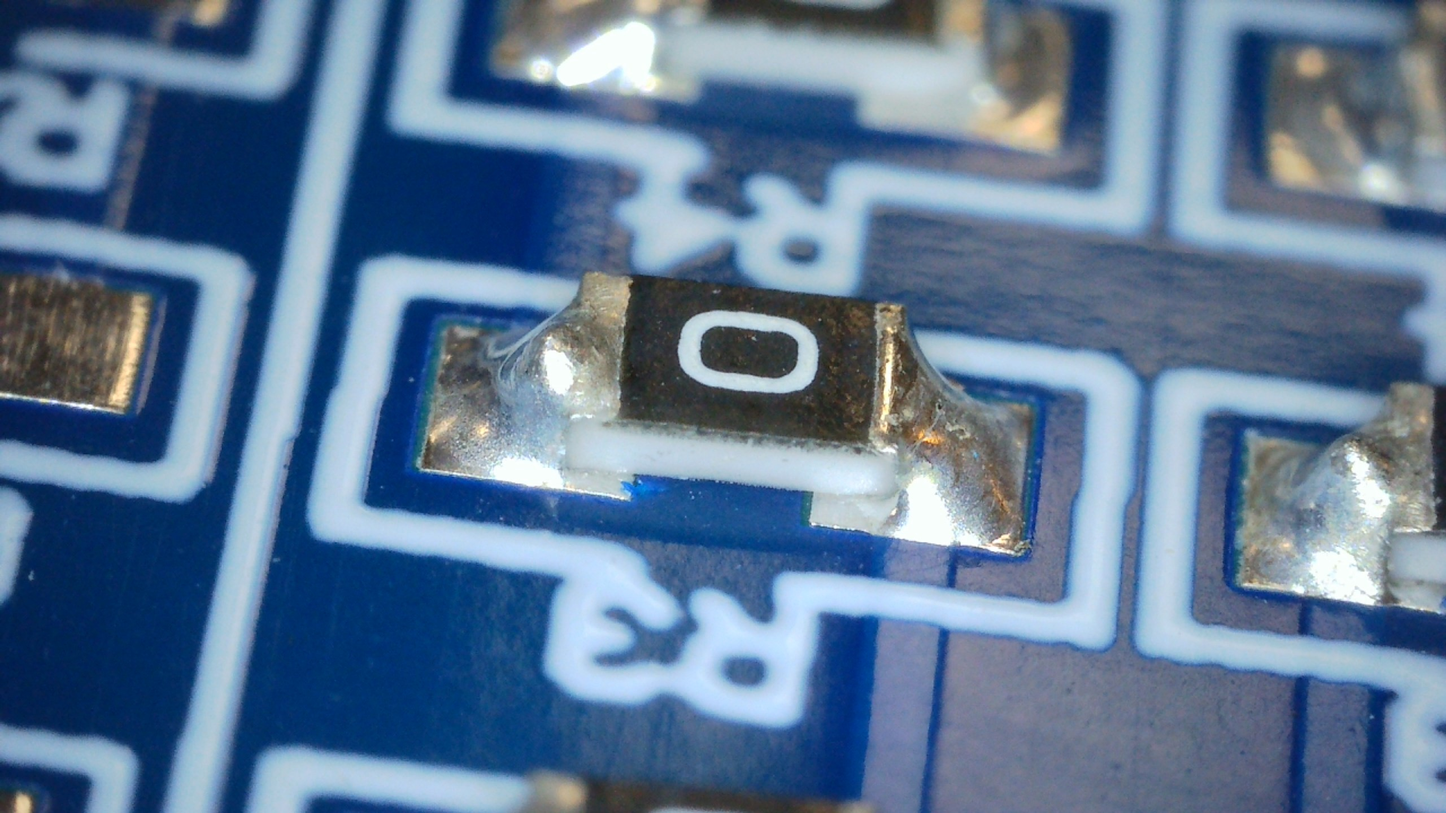NG: (477, 274, 626, 464), (500, 311, 614, 415)
OK: (866, 303, 1029, 554)
